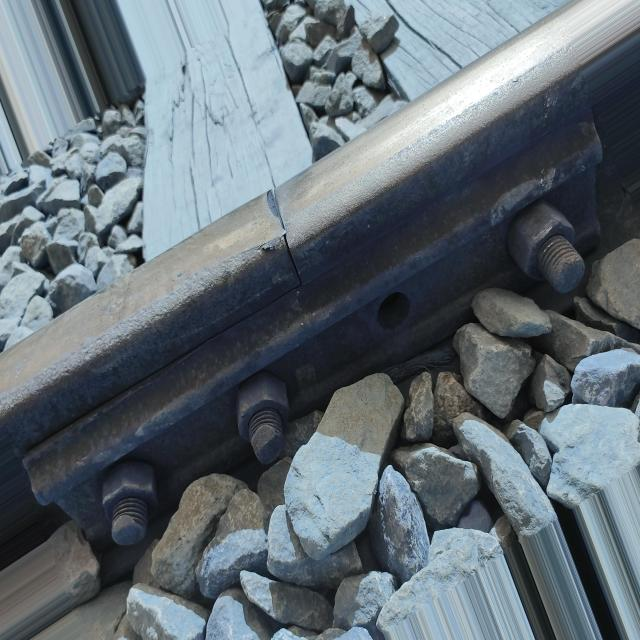crack: (242, 174, 324, 313)
